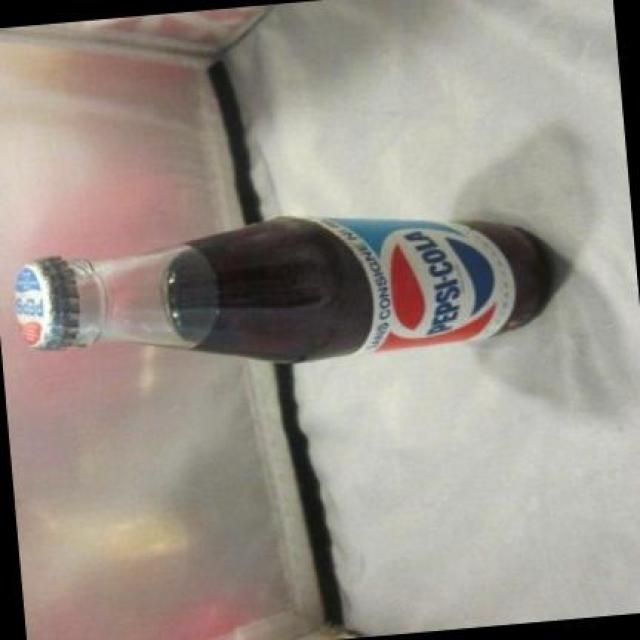high: (15, 216, 548, 361)
